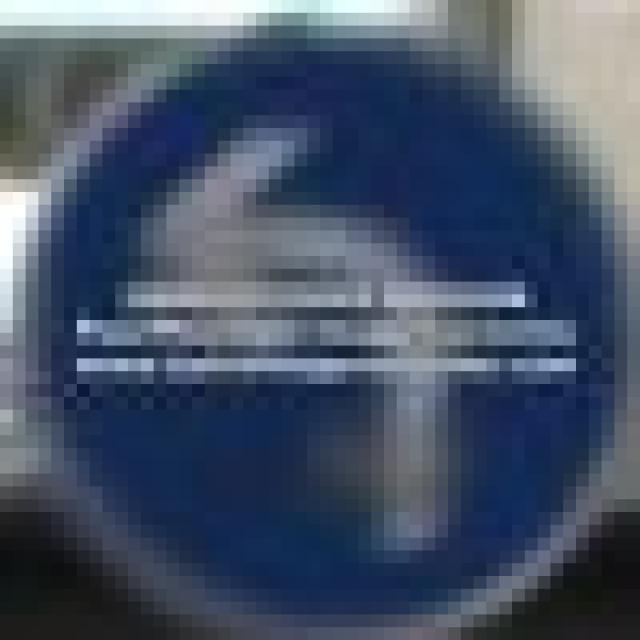COMPULSARY_TURN_LEFT: (0, 0, 627, 627)
